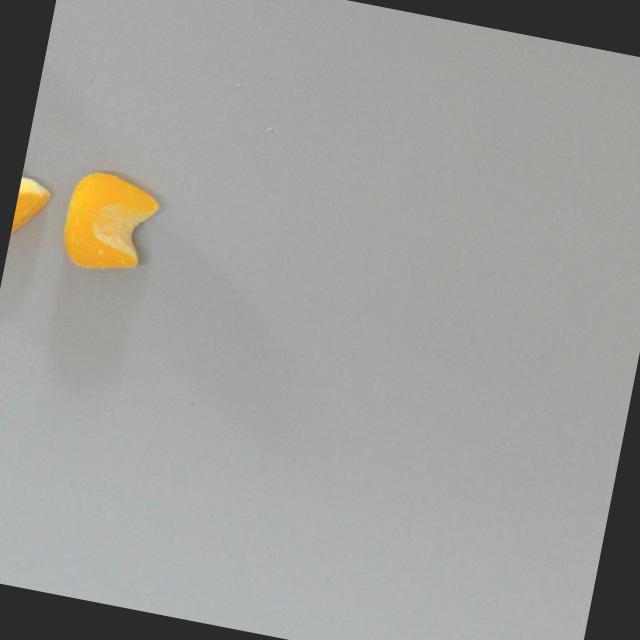no_canjicado: (50, 161, 170, 286)
pelicula: (6, 130, 67, 266)
